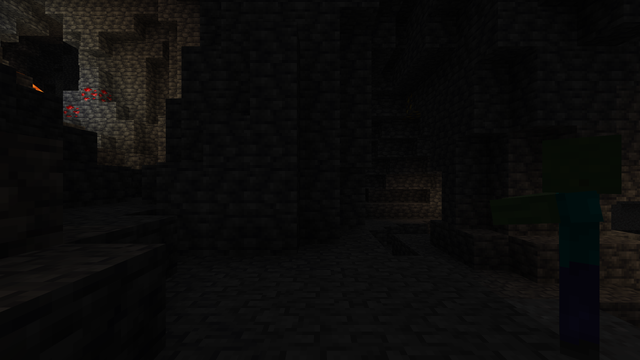zombies: (521, 141, 628, 356)
